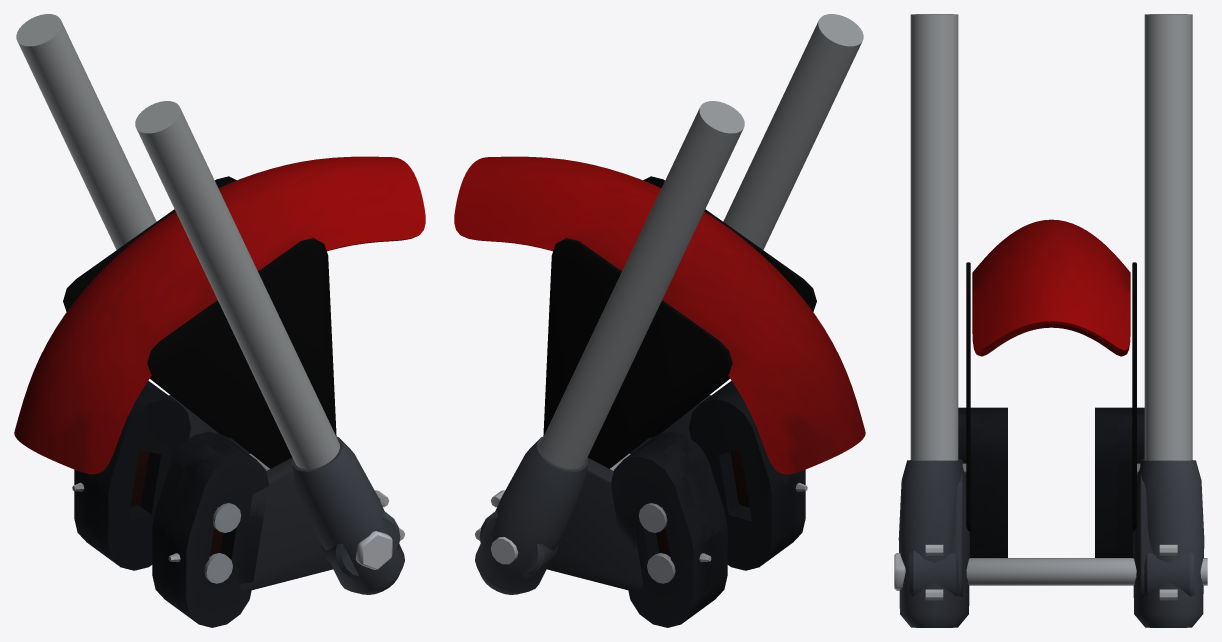
File: bike_stradav4_fork.glb
3 views of the same model, side by side, from view 1: azimuth 30°, elevation 25°; view 2: azimuth 150°, elevation 25°; view 3: azimuth 270°, elevation 25° (orthographic).
Parts seen in each view (by area): view 1: sbs_fender, sbs_forkS1, sbs_fenderstay1, sbs_forkS-1, sbs_caliper1_0.019, sbs_caliper-1_-0.019, sbs_forkfoot1, sbs_callug1, sbs_caliper1_-0.019, sbs_calbridge1, sbs_fenderstay-1, sbs_calpist1 (+5 smaller); view 2: sbs_fender, sbs_forkS-1, sbs_fenderstay-1, sbs_forkS1, sbs_caliper-1_0.019, sbs_caliper1_-0.019, sbs_forkfoot-1, sbs_callug-1, sbs_caliper-1_-0.019, sbs_calbridge-1, sbs_fenderstay1, sbs_calpist-1 (+5 smaller); view 3: sbs_forkS-1, sbs_forkS1, sbs_fender, sbs_forkfoot-1, sbs_forkfoot1, sbs_axleF, sbs_caliper-1_-0.019, sbs_caliper1_-0.019, sbs_calbridge1, sbs_calbridge-1, sbs_axleboss-1, sbs_axleboss1 (+6 smaller).
Part boxes in pixels (x1,y1,x2,y2): sbs_fender: (14, 156, 425, 474); sbs_forkS1: (135, 101, 339, 469); sbs_fenderstay1: (147, 238, 336, 468); sbs_forkS-1: (16, 14, 156, 249); sbs_caliper1_0.019: (174, 447, 268, 627); sbs_caliper-1_-0.019: (95, 390, 190, 570); sbs_forkfoot1: (291, 436, 404, 594); sbs_callug1: (240, 458, 333, 590); sbs_caliper1_-0.019: (152, 431, 234, 607); sbs_calbridge1: (164, 440, 243, 614); sbs_fenderstay-1: (63, 176, 236, 437); sbs_calpist1: (204, 503, 241, 583); sbs_fender: (454, 156, 865, 474); sbs_forkS-1: (540, 101, 744, 469); sbs_fenderstay-1: (543, 238, 732, 468); sbs_forkS1: (723, 14, 863, 249); sbs_caliper-1_0.019: (611, 447, 705, 627); sbs_caliper1_-0.019: (689, 390, 784, 570); sbs_forkfoot-1: (475, 436, 588, 594); sbs_callug-1: (546, 458, 642, 590); sbs_caliper-1_-0.019: (646, 431, 727, 607); sbs_calbridge-1: (636, 440, 715, 614); sbs_fenderstay1: (643, 176, 816, 437); sbs_calpist-1: (638, 503, 675, 583); sbs_forkS-1: (1144, 14, 1192, 460); sbs_forkS1: (910, 14, 958, 460); sbs_fender: (972, 219, 1130, 356); sbs_forkfoot-1: (1133, 460, 1204, 627); sbs_forkfoot1: (898, 460, 969, 627); sbs_axleF: (966, 558, 1207, 585); sbs_caliper-1_-0.019: (1095, 407, 1119, 557); sbs_caliper1_-0.019: (983, 407, 1007, 557); sbs_calbridge1: (964, 407, 984, 557); sbs_calbridge-1: (1118, 407, 1138, 557); sbs_axleboss-1: (1144, 550, 1194, 596); sbs_axleboss1: (909, 550, 958, 596).
Size of the model in its own units: 0.3888 by 0.5228 by 0.281.
